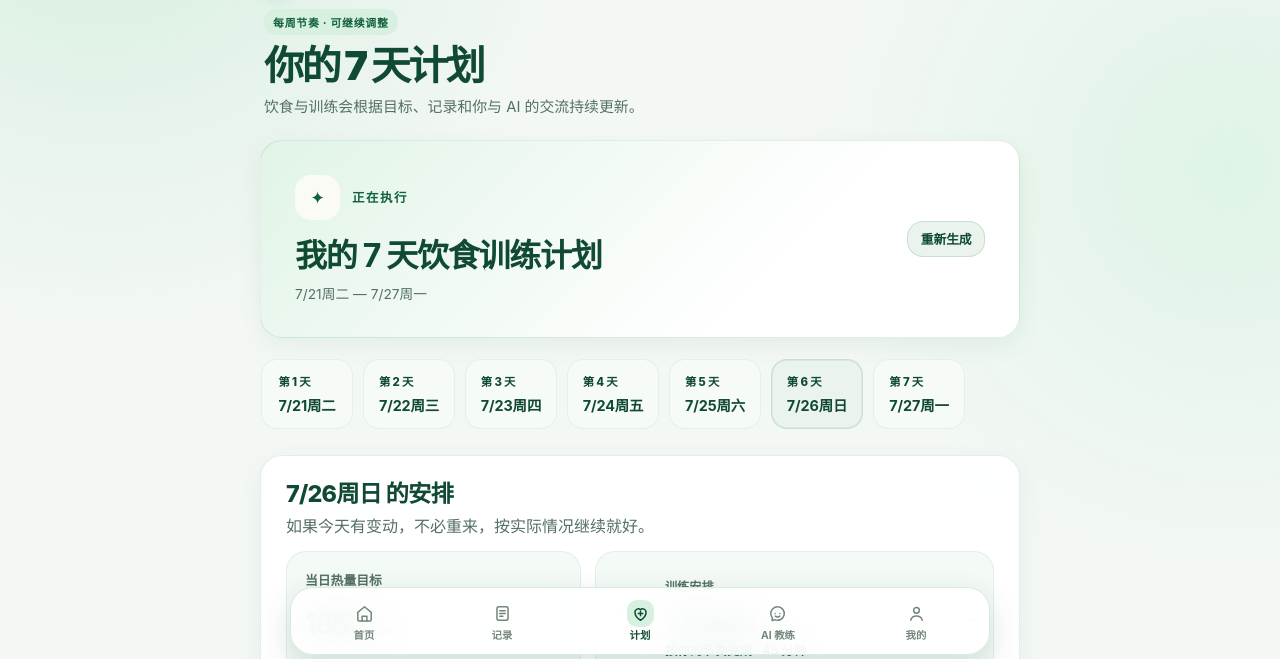
Scenario: PlansPage › changes the visible day when a day tab is selected
Step 1. Click the tab "第 2 天" → (409, 394), box [363,359,455,429]
(page scrolled)
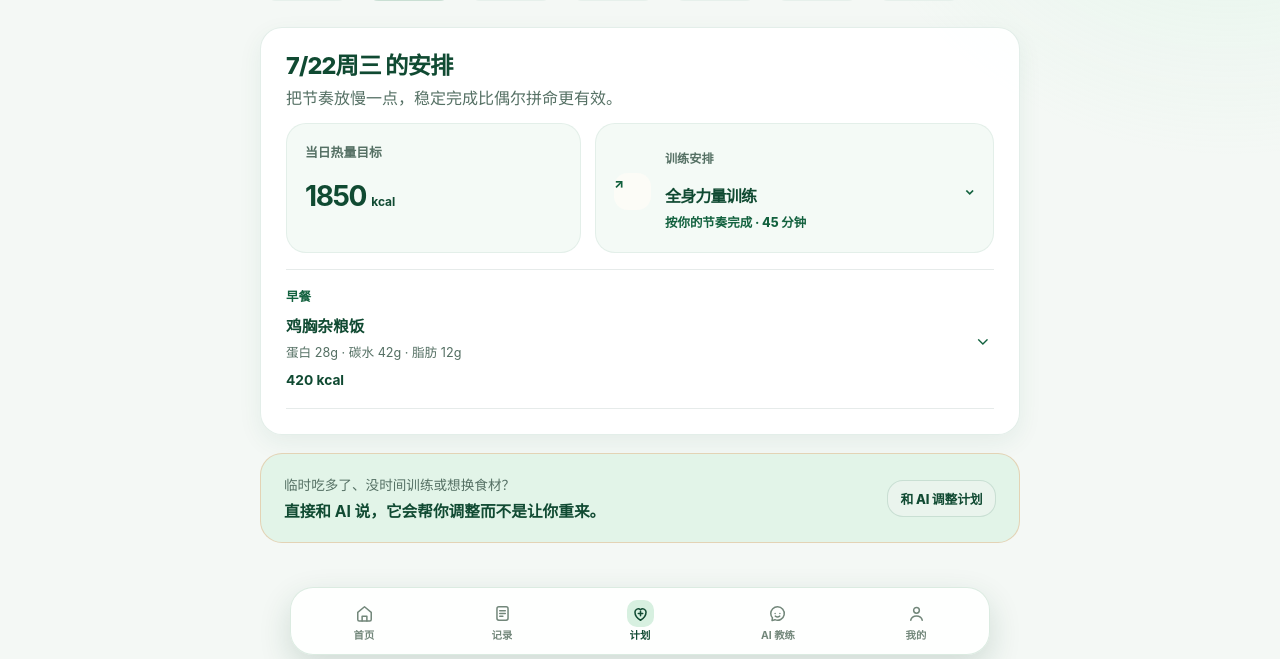
Expected: the text "鸡胸杂粮饭" is shown, [286,317,364,336]
